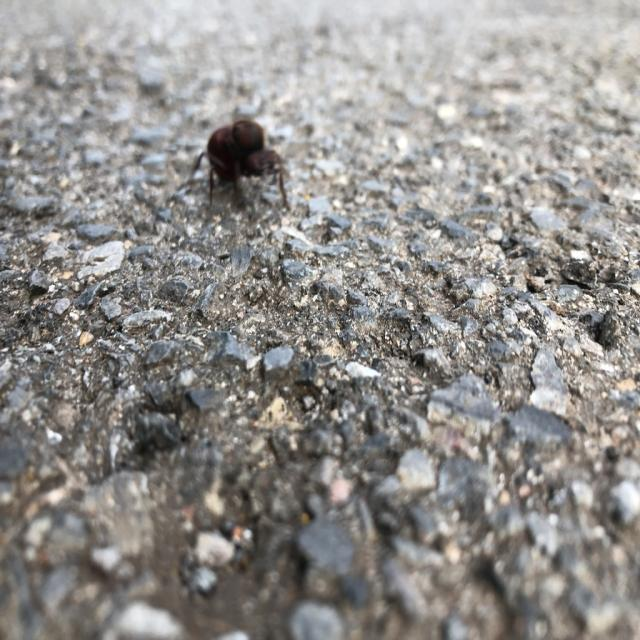Alive-Female-Dealate: (191, 117, 291, 211)
